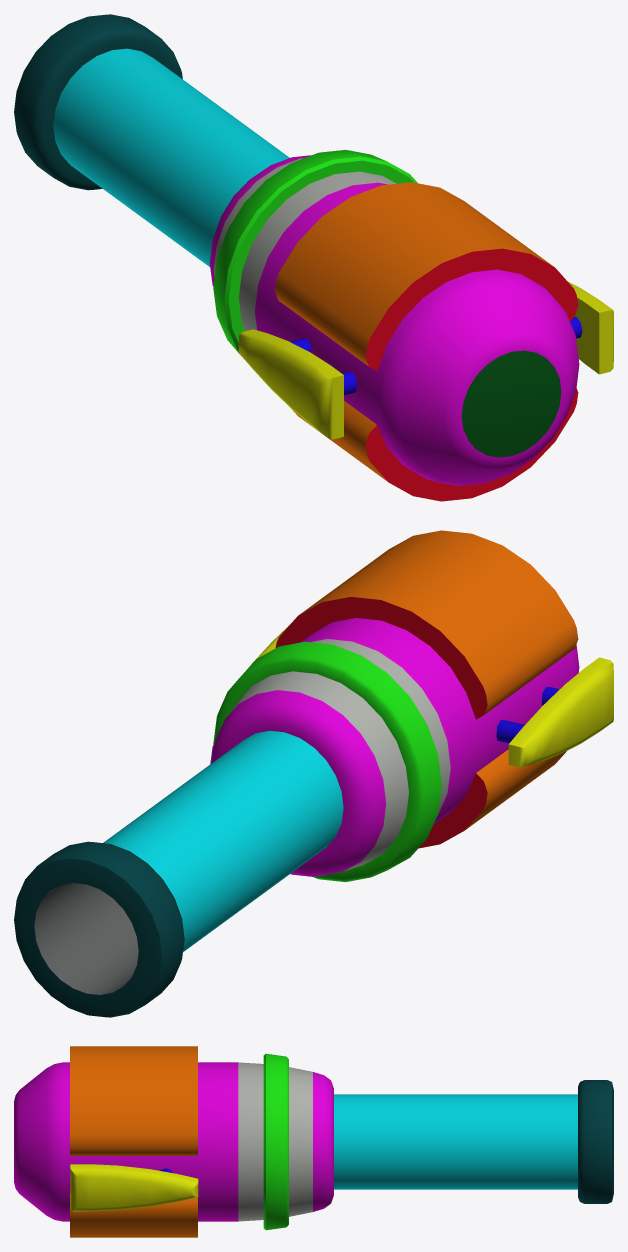
Rendered from sm_gravgun.fbx.
3 views of the same model, one above another, from view 1: azimuth 30°, elevation 25°; view 2: azimuth 150°, elevation 25°; view 3: azimuth 270°, elevation 25° (orthographic). The views are drawn at different scales.
Parts seen in each view (by area): view 1: sm_gravgun; view 2: sm_gravgun; view 3: sm_gravgun.
Part boxes in pixels (x1,y1,x2,y2): sm_gravgun: (14, 14, 613, 501); sm_gravgun: (14, 530, 613, 1017); sm_gravgun: (14, 1046, 613, 1237).
Size of the model in its own units: 60 by 48 by 150.
